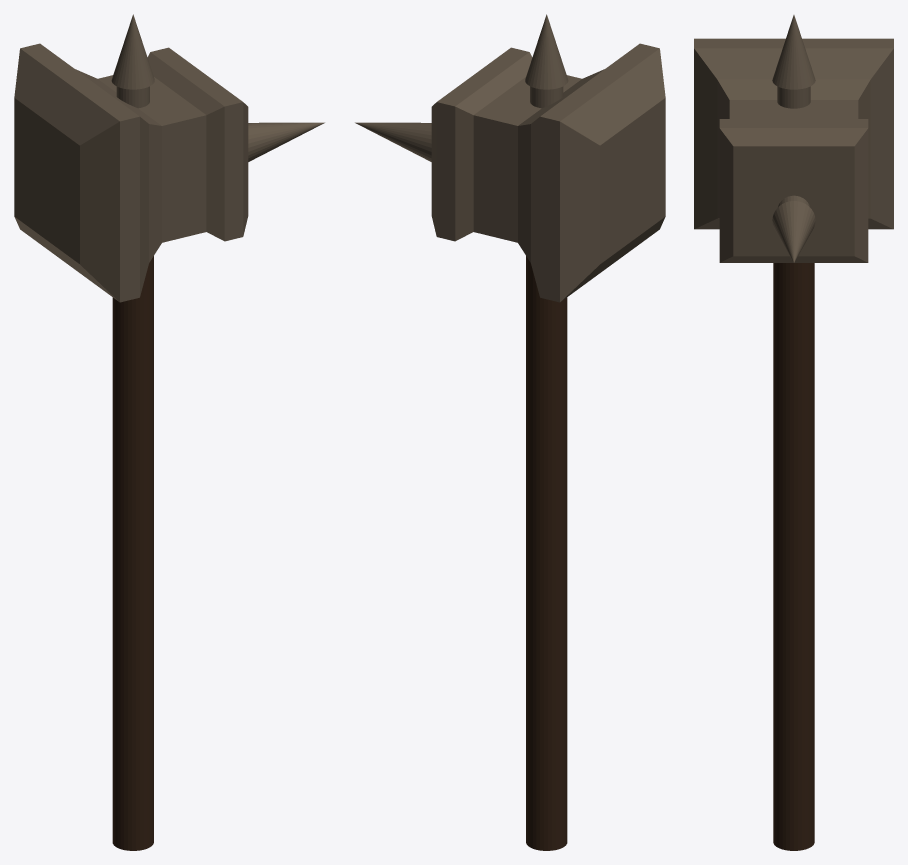
File: SP_Viking Hammer.fbx
The picture shows the model from 3 angles, left to right: view 1: azimuth 30°, elevation 25°; view 2: azimuth 150°, elevation 25°; view 3: azimuth 270°, elevation 25°; orthographic projection.
Visible parts, largest first — view 1: Circle.001, Cylinder; view 2: Circle.001, Cylinder; view 3: Circle.001, Cylinder.
Boxes of the visible parts, x1,y1,x2,y2 form: Circle.001: (14,14,324,302); Cylinder: (112,256,153,850); Circle.001: (355,14,665,302); Cylinder: (526,256,567,850); Circle.001: (694,15,893,262); Cylinder: (773,263,814,850).
Size of the model in its own units: 50.15 by 142 by 31.15.
